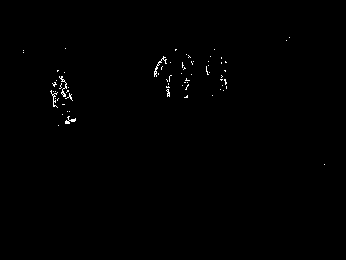person: (50, 71, 76, 126), (206, 46, 230, 95), (152, 54, 174, 98)
